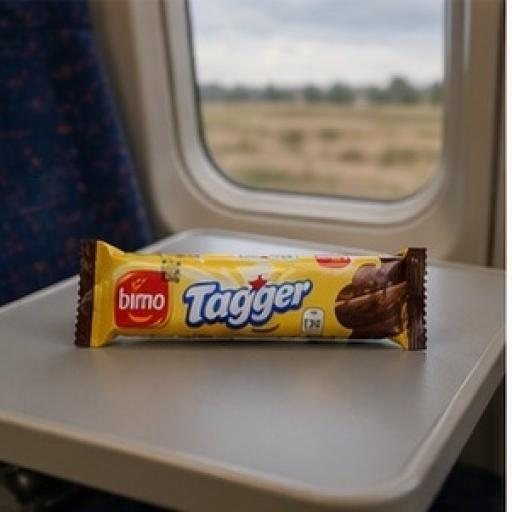tagger: (49, 184, 481, 402)
